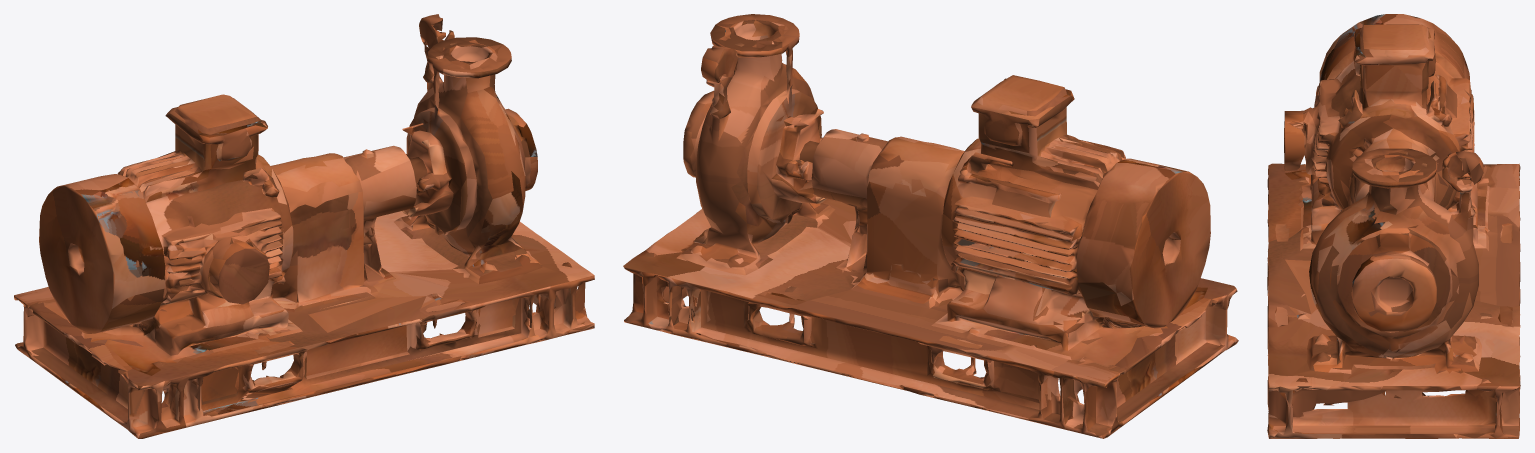
Rendered from Props_CoolingPump_Repaired.fbx.
3 renders of one model, left to right at view 1: azimuth 30°, elevation 25°; view 2: azimuth 150°, elevation 25°; view 3: azimuth 270°, elevation 25°, orthographic. The views are drawn at different scales.
Visible parts, largest first — view 1: texture_mapping; view 2: texture_mapping; view 3: texture_mapping.
Boxes of the visible parts, x1,y1,x2,y2 form: texture_mapping: (14, 14, 594, 438); texture_mapping: (623, 14, 1238, 438); texture_mapping: (1267, 14, 1520, 438).
Size of the model in its own units: 99.98 by 53.24 by 47.84.
